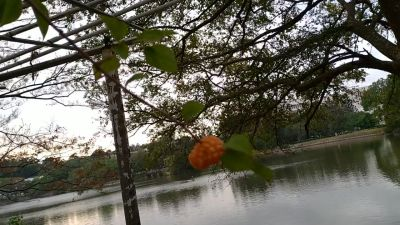eggs: (187, 135, 226, 172)
